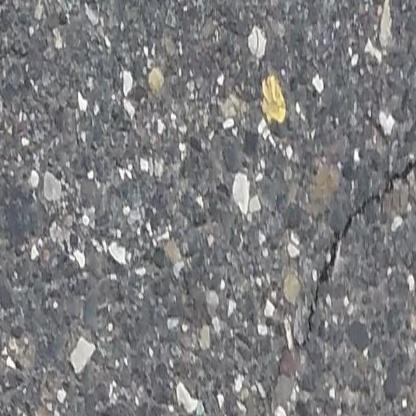Cracks: (299, 136, 416, 340)
